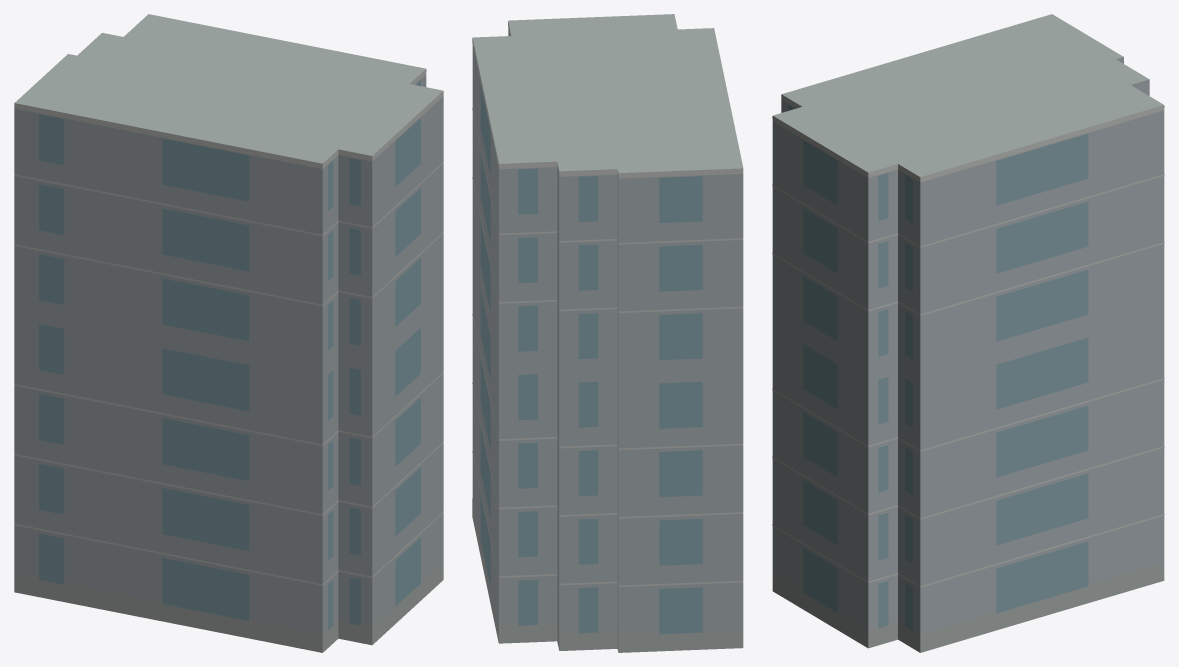
Rendered from survey-upis-33014048.glb.
3 renders of one model, left to right at view 1: azimuth 30°, elevation 25°; view 2: azimuth 150°, elevation 25°; view 3: azimuth 270°, elevation 25°, orthographic. The views are drawn at different scales.
Visible parts, largest first — view 1: survey-upis-33014048.tmp; view 2: survey-upis-33014048.tmp; view 3: survey-upis-33014048.tmp.
Boxes of the visible parts, <box> form: survey-upis-33014048.tmp: <box>14,14,443,652</box>; survey-upis-33014048.tmp: <box>472,14,743,652</box>; survey-upis-33014048.tmp: <box>772,14,1164,652</box>.
Bounding box in the file's own units: 15.92 × 21.6 × 16.14.
